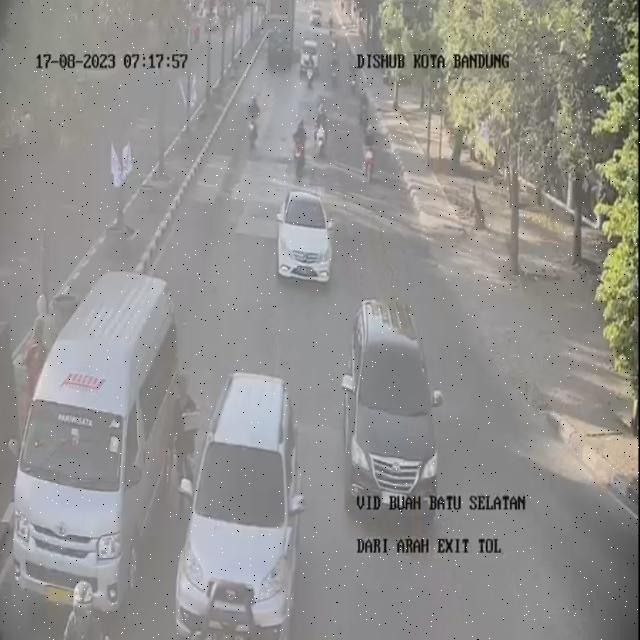cars: (9, 262, 186, 598), (180, 367, 304, 640), (342, 294, 430, 508), (275, 184, 329, 291)
motorcycle: (241, 96, 266, 157), (287, 115, 309, 180), (361, 125, 381, 182), (315, 95, 334, 148), (304, 40, 321, 91), (358, 88, 373, 132), (326, 54, 341, 92)
